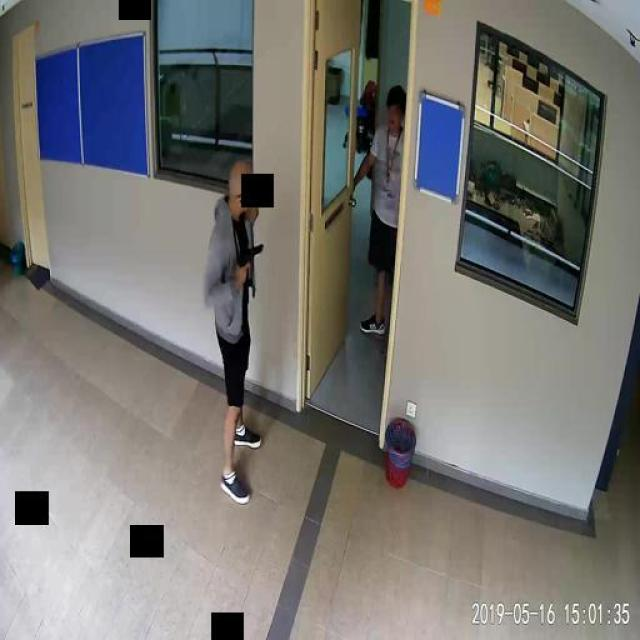gun: (236, 242, 262, 278)
